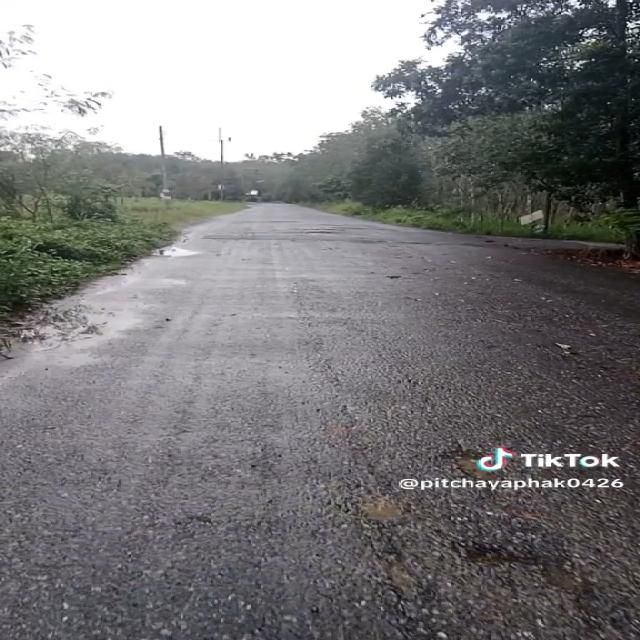Poth-hole: (305, 231, 378, 254)
